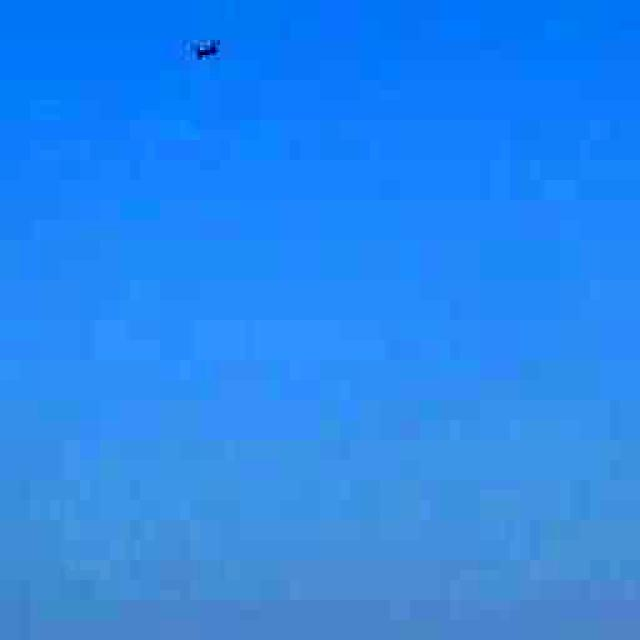bird: (170, 18, 238, 85)
